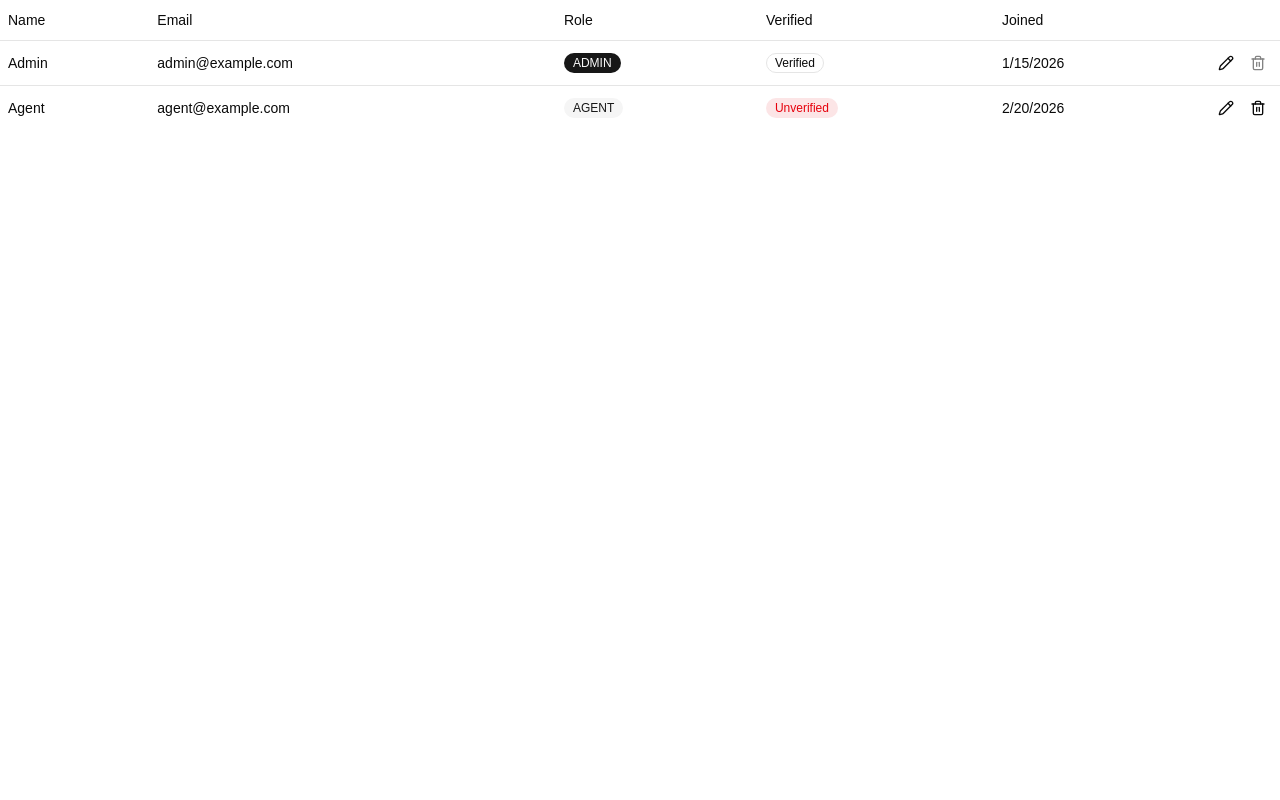
it: UsersTable › opens a single shared edit dialog pre-filled with the clicked row's data
Expected: the table is shown, [0, 0, 1279, 130]
Click the 1st button named "Edit Admin" at (1226, 62), box [1212, 48, 1240, 76]
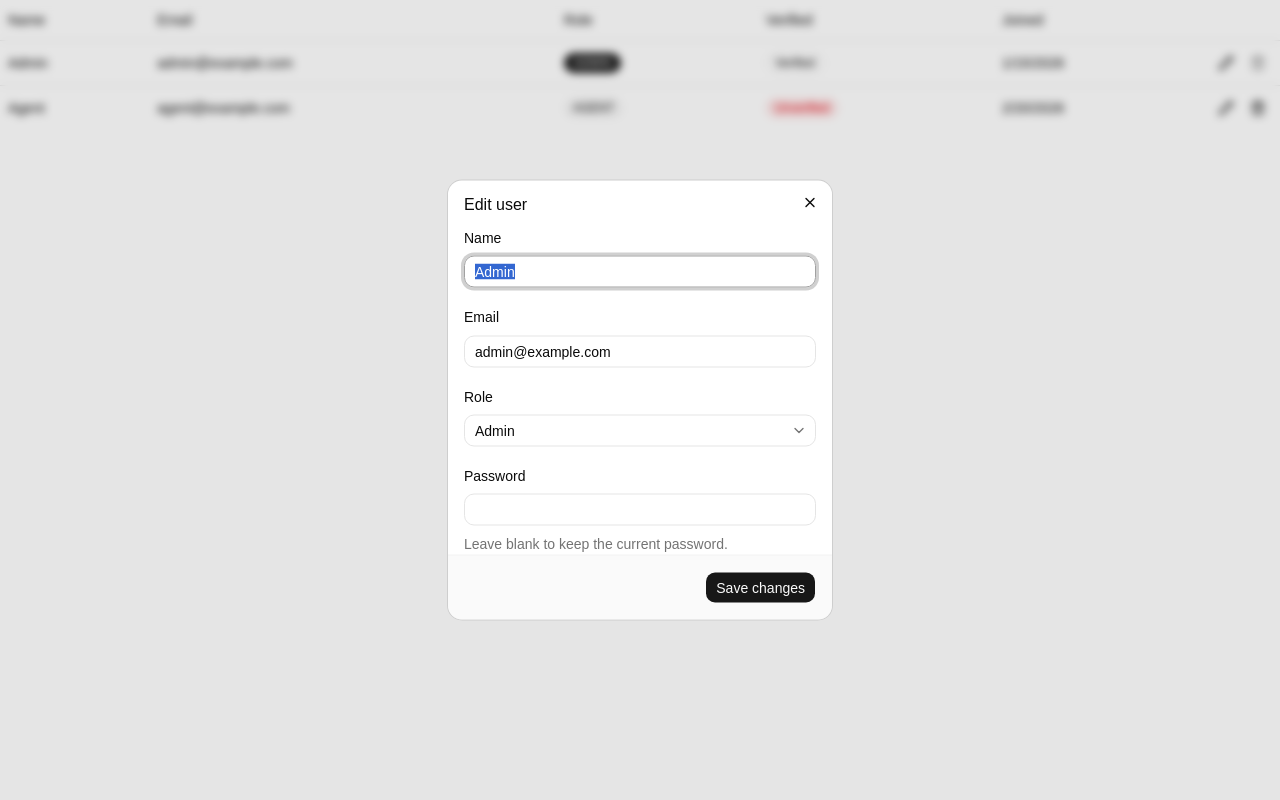
Expected: the number of dialogs is 1, [448, 180, 832, 620]
Expected: the field labelled "Name" holds "Admin", [464, 256, 816, 288]
Expected: the field labelled "Email" holds "admin@example.com", [464, 335, 816, 367]
Press Escape
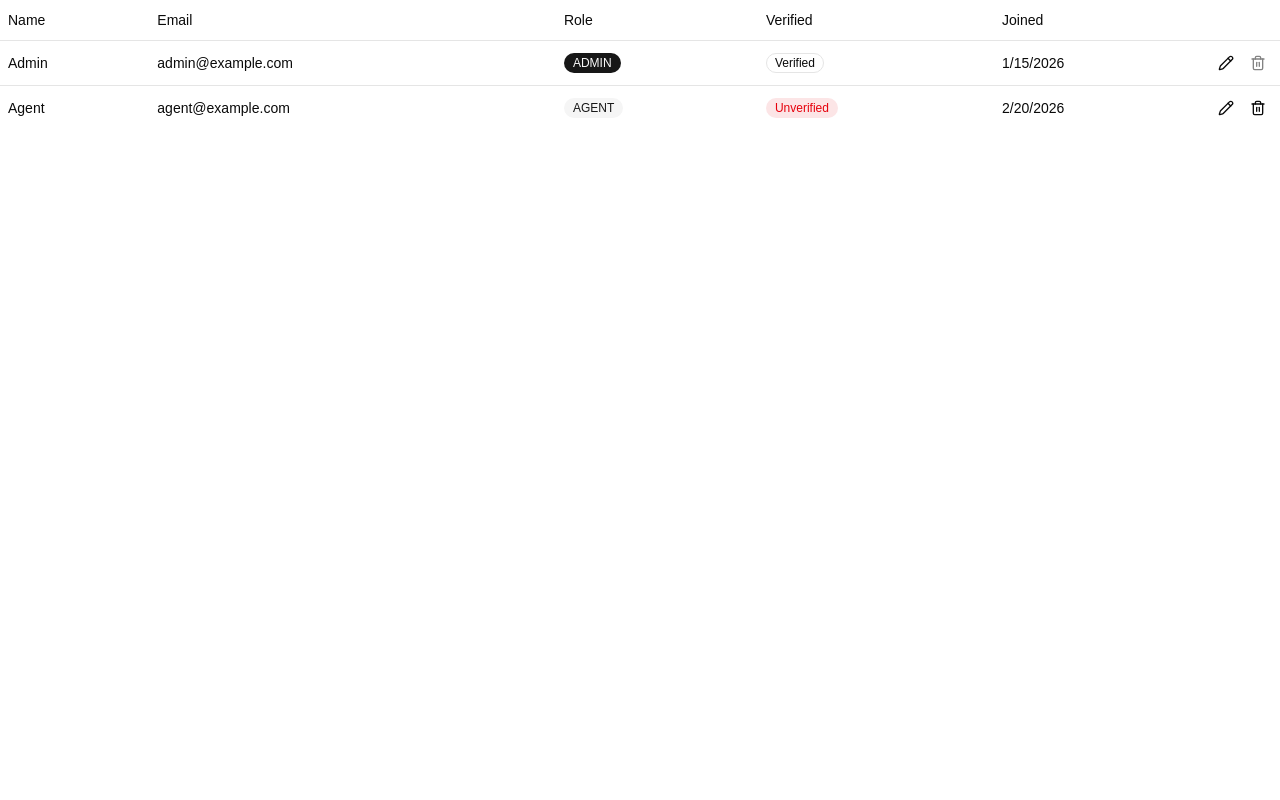
Expected: the dialog is gone
Click the 3rd button named "Edit Agent" at (1226, 108), box [1212, 94, 1240, 122]
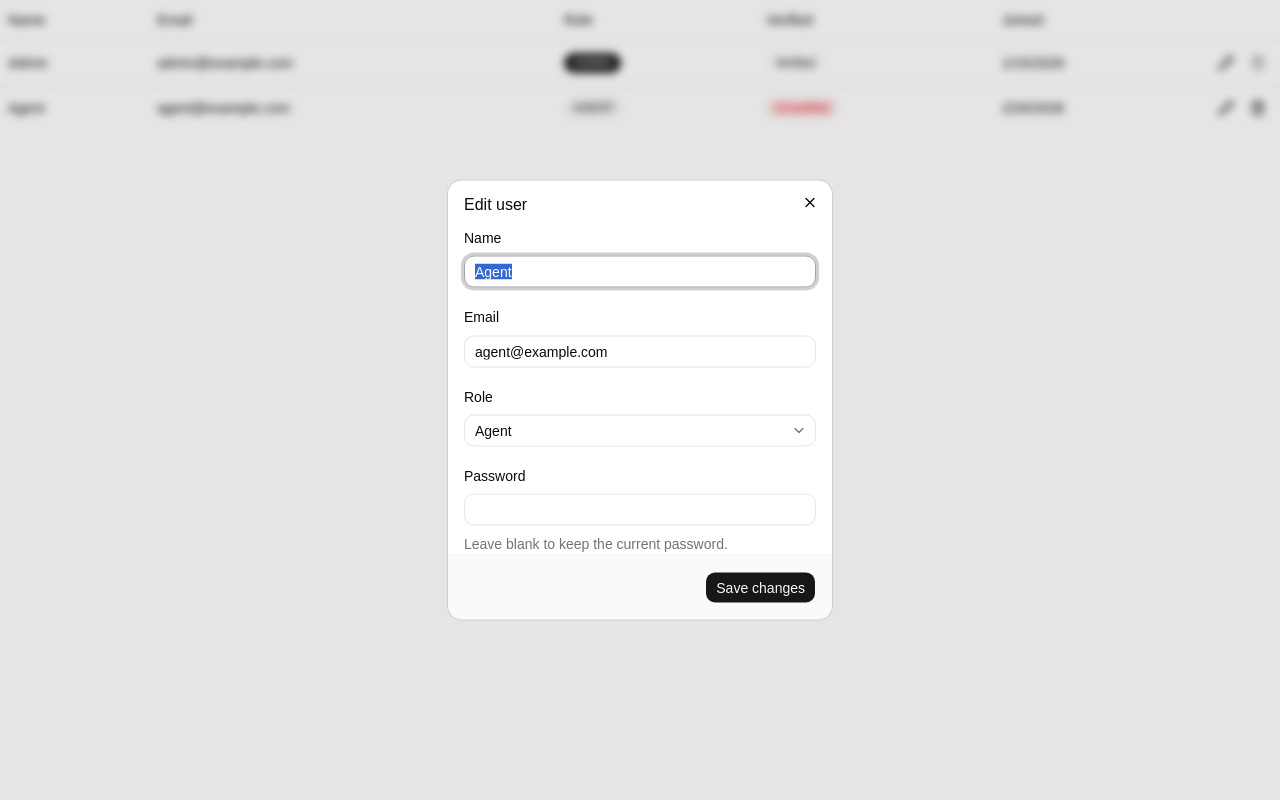
Expected: the number of dialogs is 1, [448, 180, 832, 620]
Expected: the field labelled "Name" holds "Agent", [464, 256, 816, 288]
Expected: the field labelled "Email" holds "agent@example.com", [464, 335, 816, 367]
